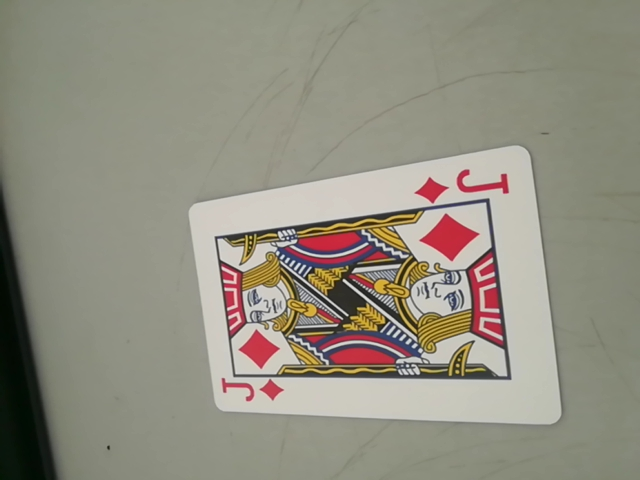fk j: (416, 163, 516, 205), (216, 372, 286, 410)
